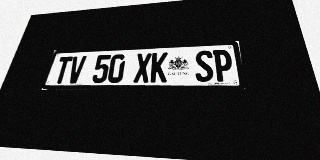0: (107, 54, 126, 83)
5: (91, 55, 111, 83)
K: (150, 52, 168, 82)
P: (213, 49, 234, 82)
S: (195, 50, 214, 82)
T: (52, 56, 73, 84)
V: (66, 56, 87, 83)
X: (133, 53, 152, 83)
